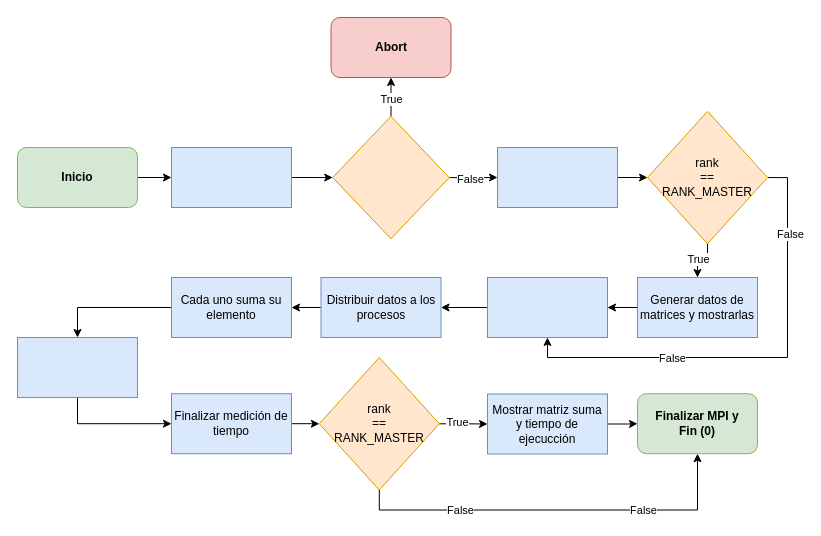
Some shapes in this 821 by 536 pixel diagram are drawn without their labels. The shapes that lost their labels are listed below. From the top down, each one's box as (x1, y1, x2, y2) in pixels, then its label:
(170, 146, 292, 208): Inicializar MPI
(332, 115, 449, 239): size != TAM_FILA * TAM_COLUMNA
(496, 146, 618, 208): Crear topología cartesiana e inicializar matrices
(486, 276, 608, 338): Medir tiempo de inicio
(16, 336, 138, 398): Regresar todo al proceso maestro
